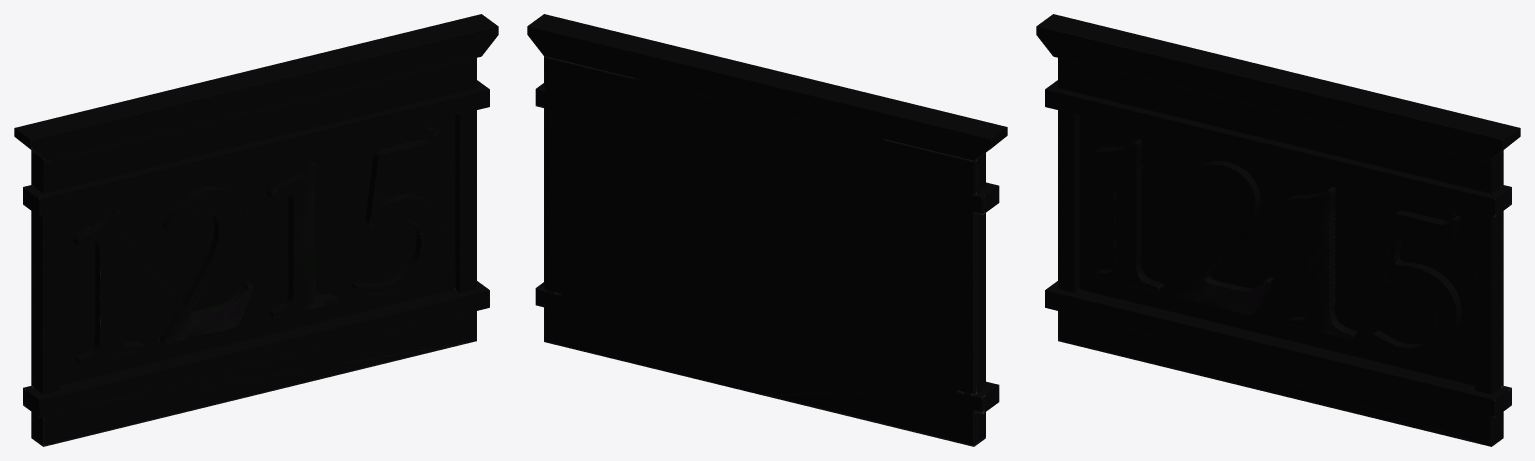
Rendered from House-Numbers-Plate--colored.fbx.
3 renders of one model, left to right at view 1: azimuth 30°, elevation 25°; view 2: azimuth 150°, elevation 25°; view 3: azimuth 330°, elevation 25°, orthographic.
Parts seen in each view (by area): view 1: node_id3; view 2: node_id3; view 3: node_id3.
Part boxes in pixels (left/top/right/bottom): node_id3: left=14, top=14, right=498, bottom=446; node_id3: left=527, top=14, right=1007, bottom=446; node_id3: left=1036, top=14, right=1520, bottom=446.
Bounding box in the file's own units: 0.512 × 0.3291 × 0.032.
Materials: 1 (1 with a texture image).
